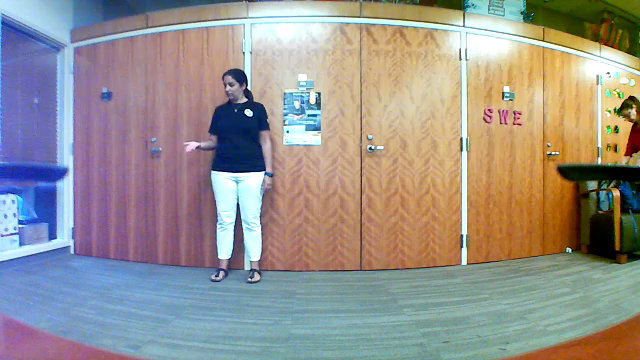land: (170, 131, 211, 158)
